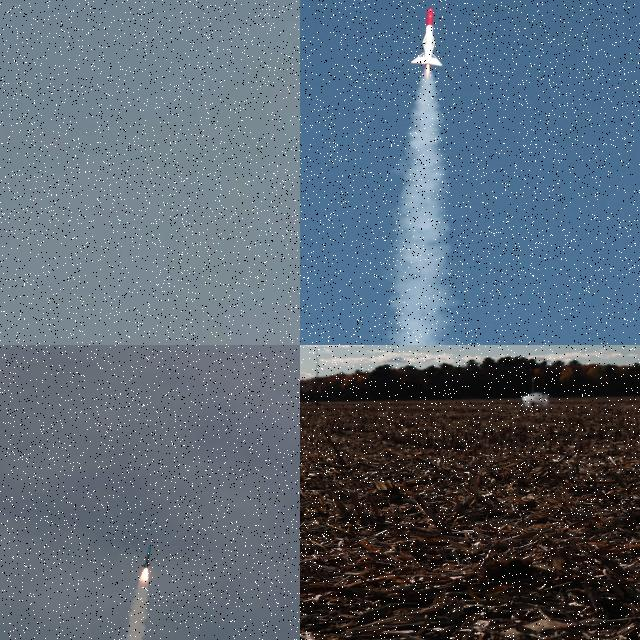Rocket: (411, 6, 444, 68), (140, 546, 152, 568), (530, 376, 535, 400)
